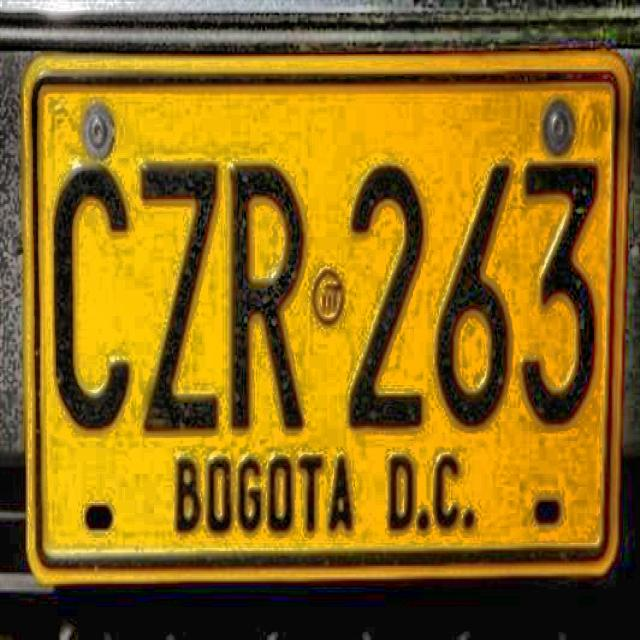plate: (28, 61, 625, 573)
